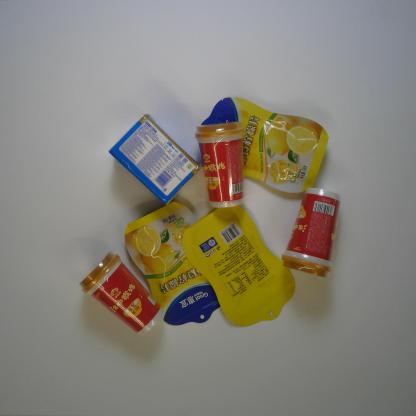Dried Fruit: (181, 203, 296, 328), (198, 96, 330, 194), (124, 202, 224, 326)
Instant Drink: (78, 251, 165, 336), (278, 186, 340, 279), (194, 120, 246, 208)
Tissue: (108, 113, 202, 206)
